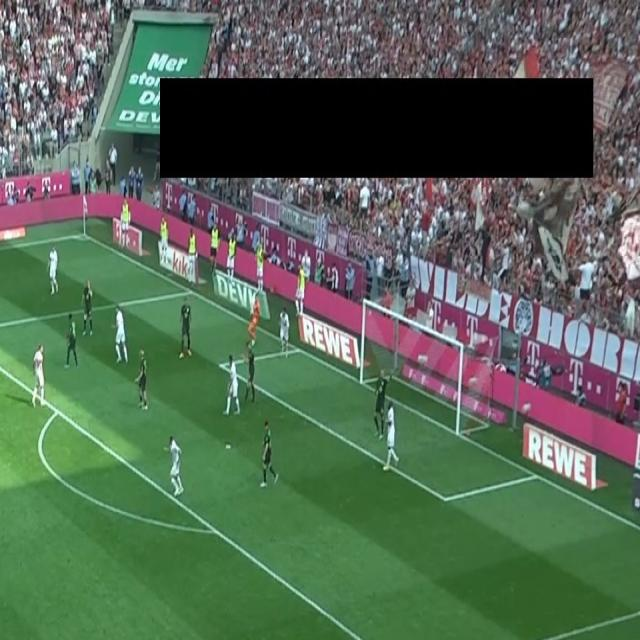ball: (249, 306, 255, 316)
